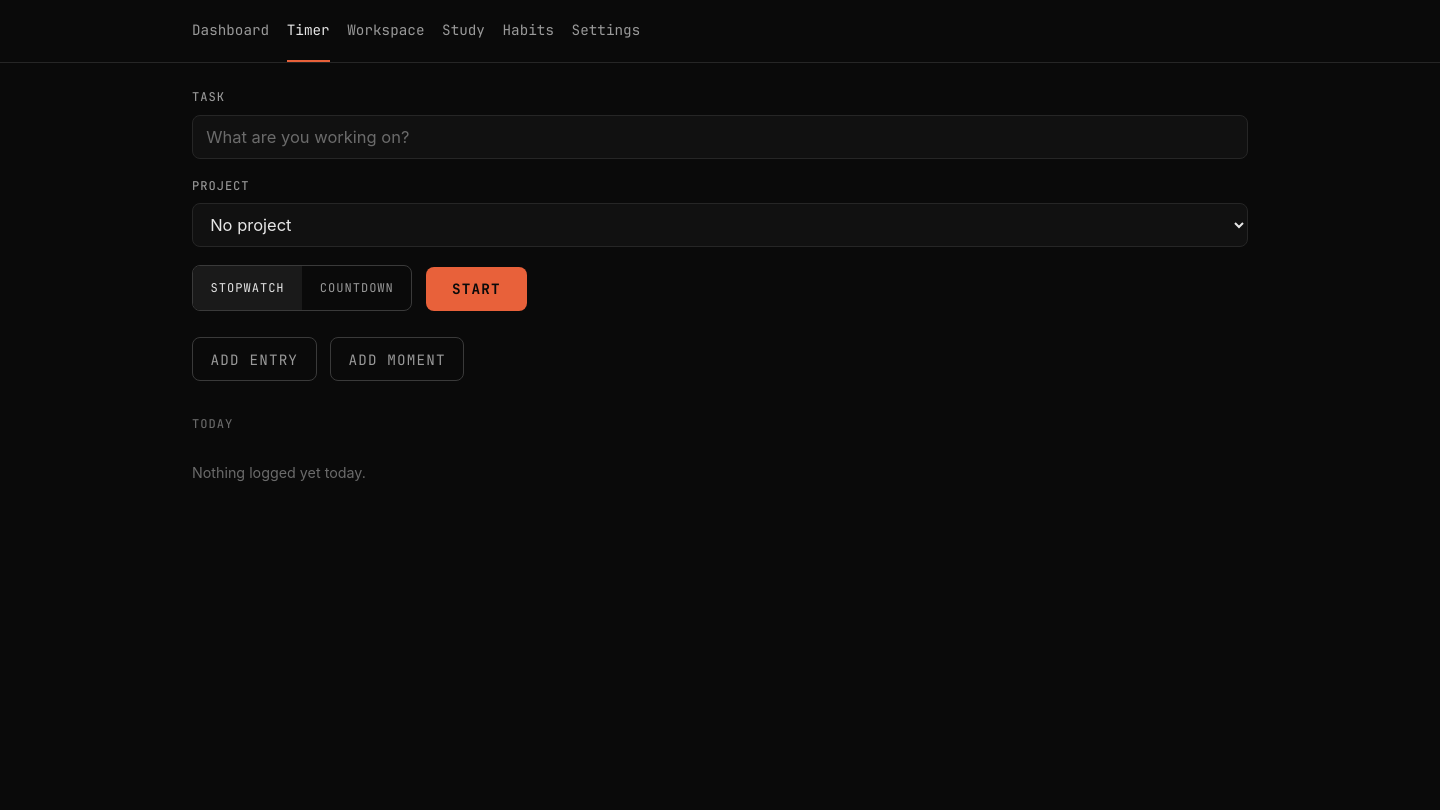
duration favorites › deletes a favorite
This screenshot has width=1440, height=810.
Expected: the field labelled "Task" is shown, [192, 115, 1248, 159]
Click the button "Countdown": (357, 288) [302, 266, 411, 310]
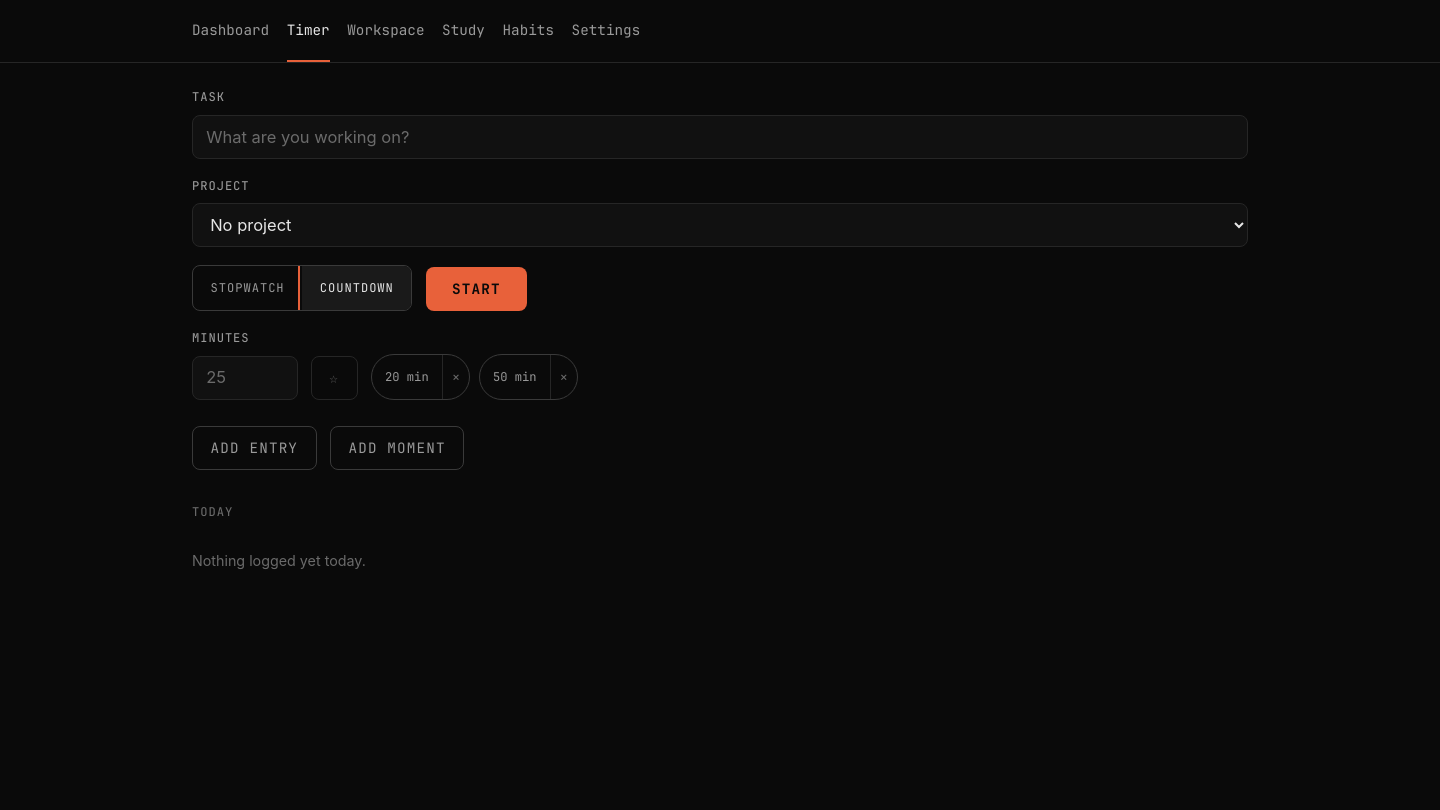
Click the button named "Remove 20 min": (455, 377) [442, 355, 469, 399]
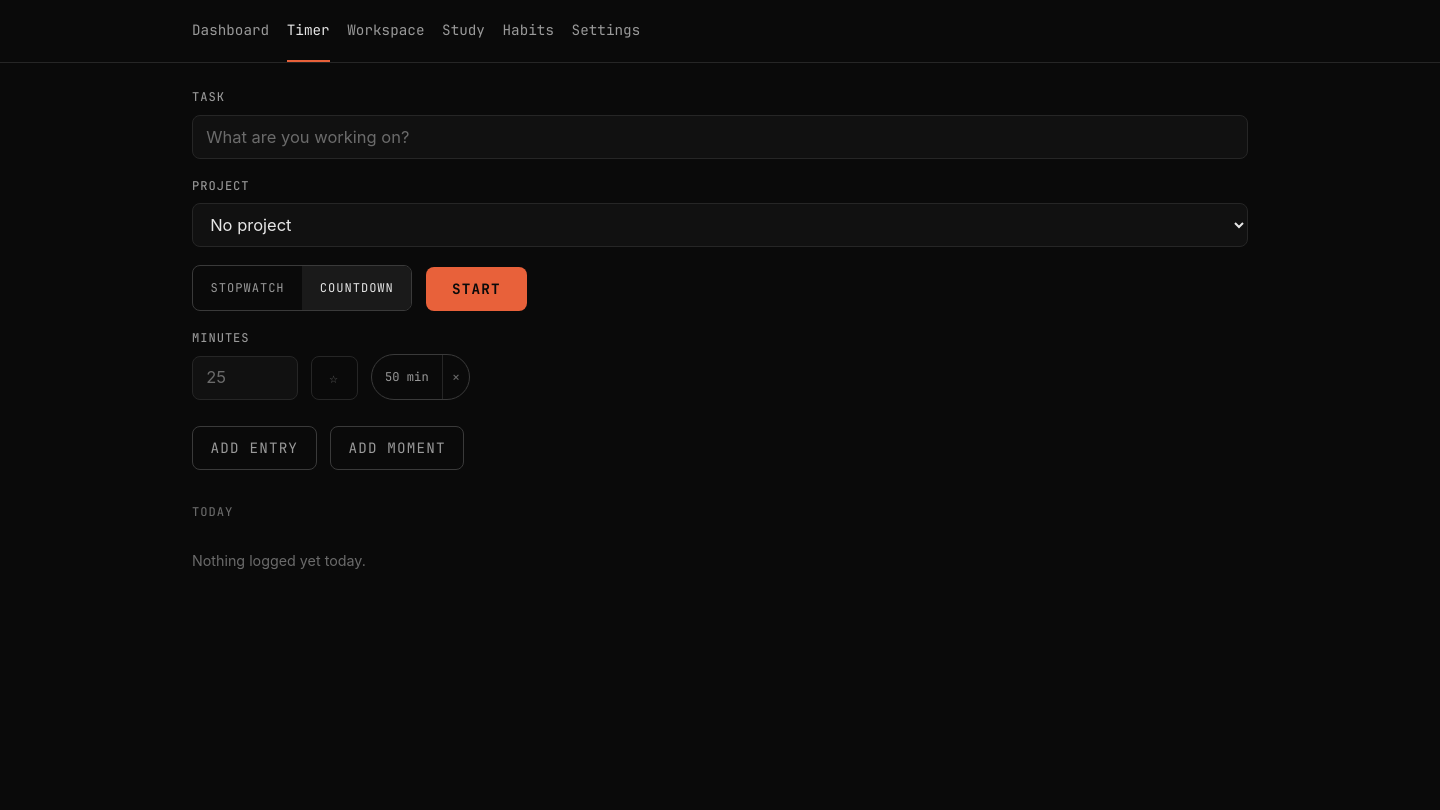
Expected: the button "20 min" is gone
